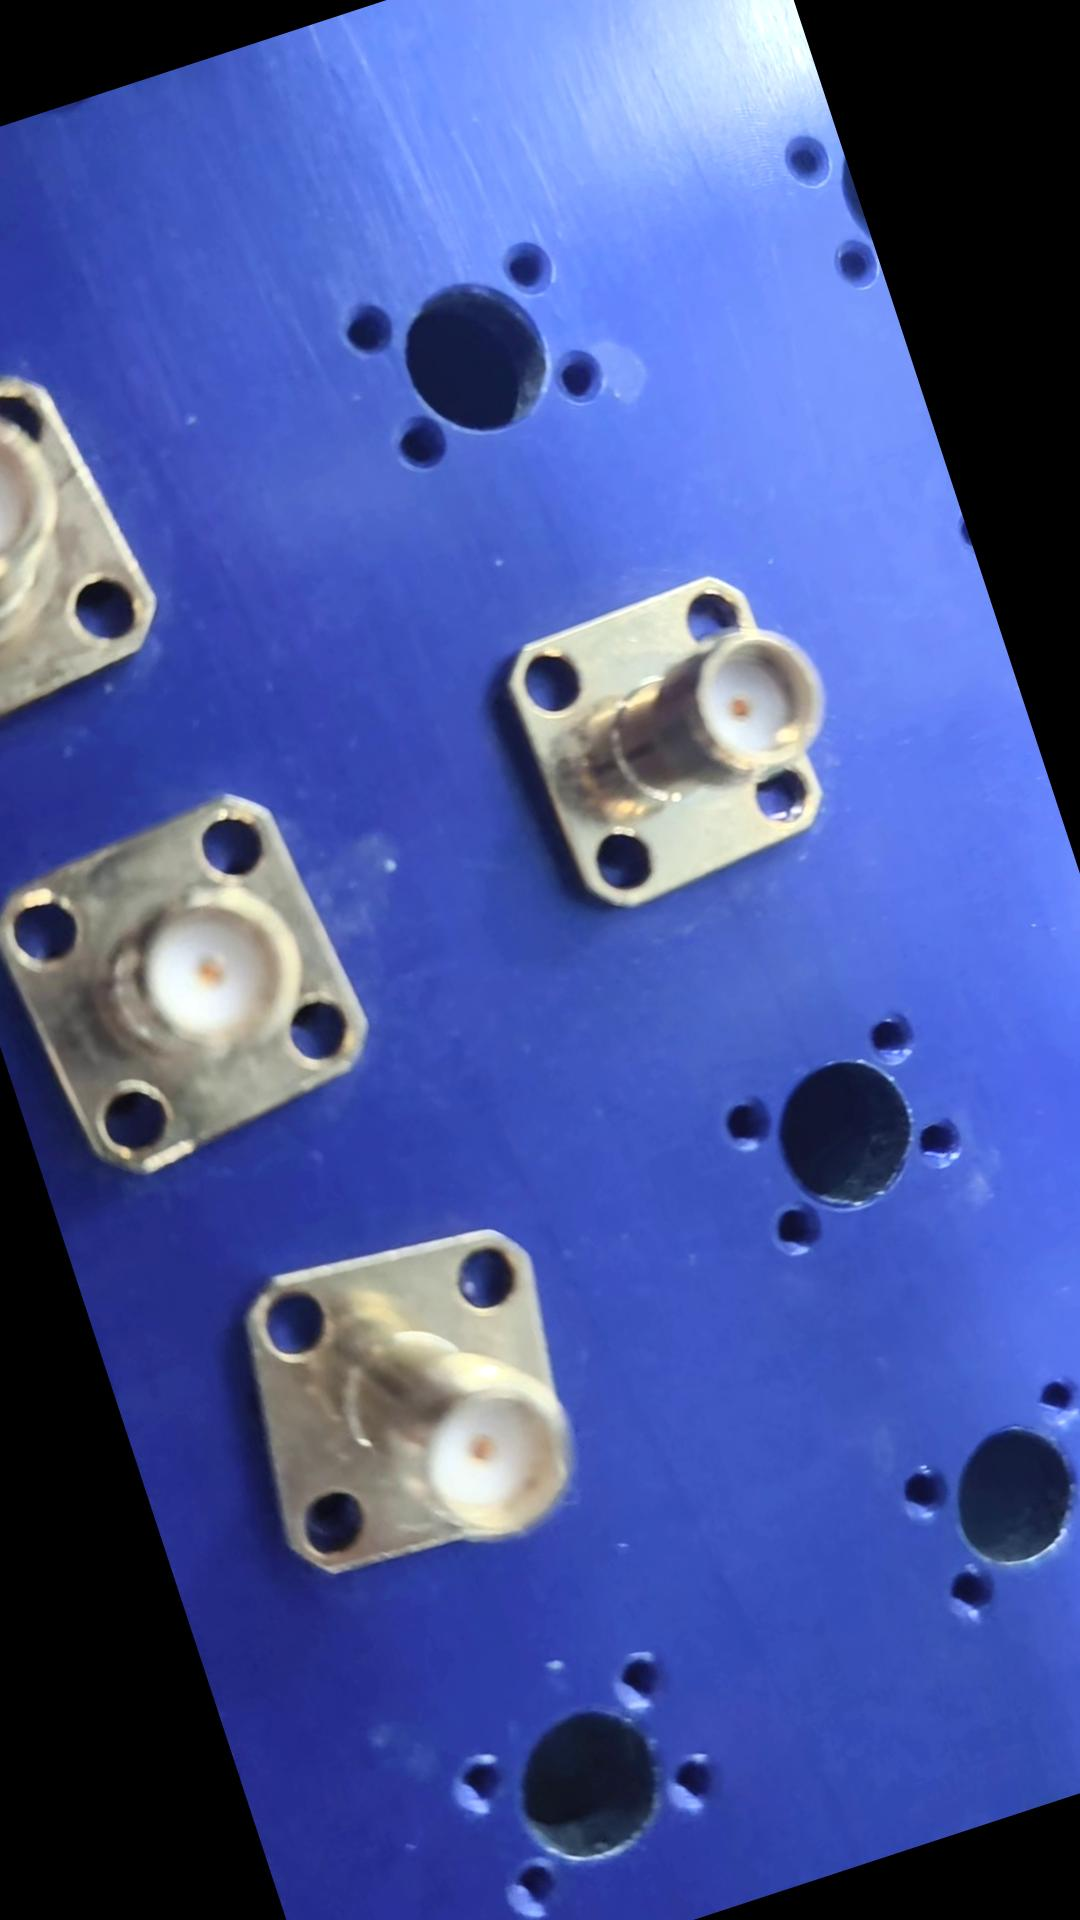SMA: (202, 1197, 633, 1597), (473, 539, 869, 935)
